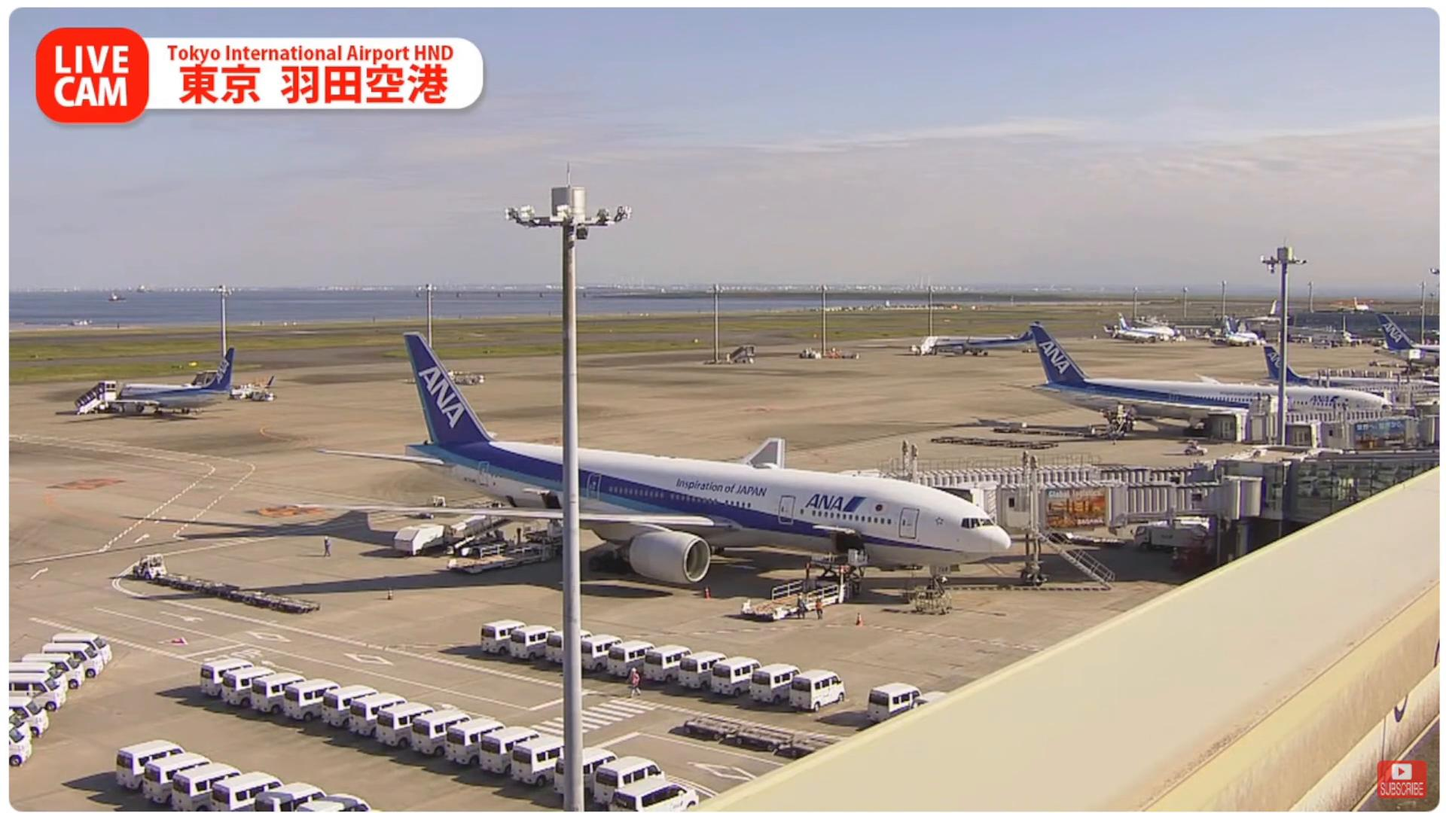Aerobridge: (956, 480, 1243, 535), (885, 461, 1213, 481)
Airplane: (290, 330, 1014, 584)
Baggage truck: (388, 524, 450, 559)
Dolly: (686, 711, 850, 758), (156, 572, 323, 612)
JCPL: (740, 556, 868, 618), (425, 524, 556, 579)
Skyloader: (432, 515, 507, 556)
Tractor: (132, 561, 170, 583)
Window: (1270, 448, 1442, 536)
